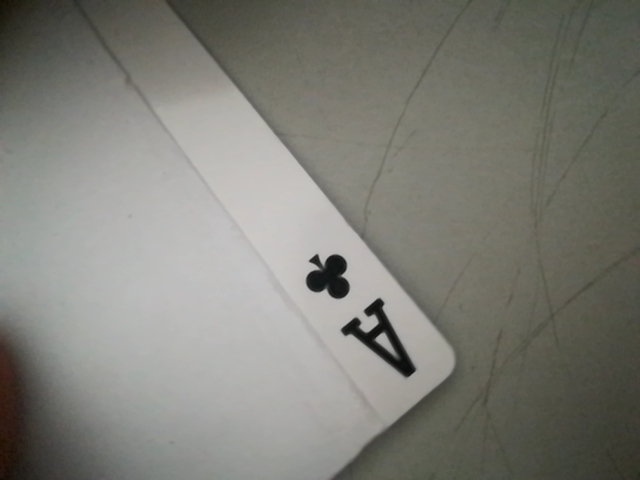mh a: (287, 238, 438, 394)
